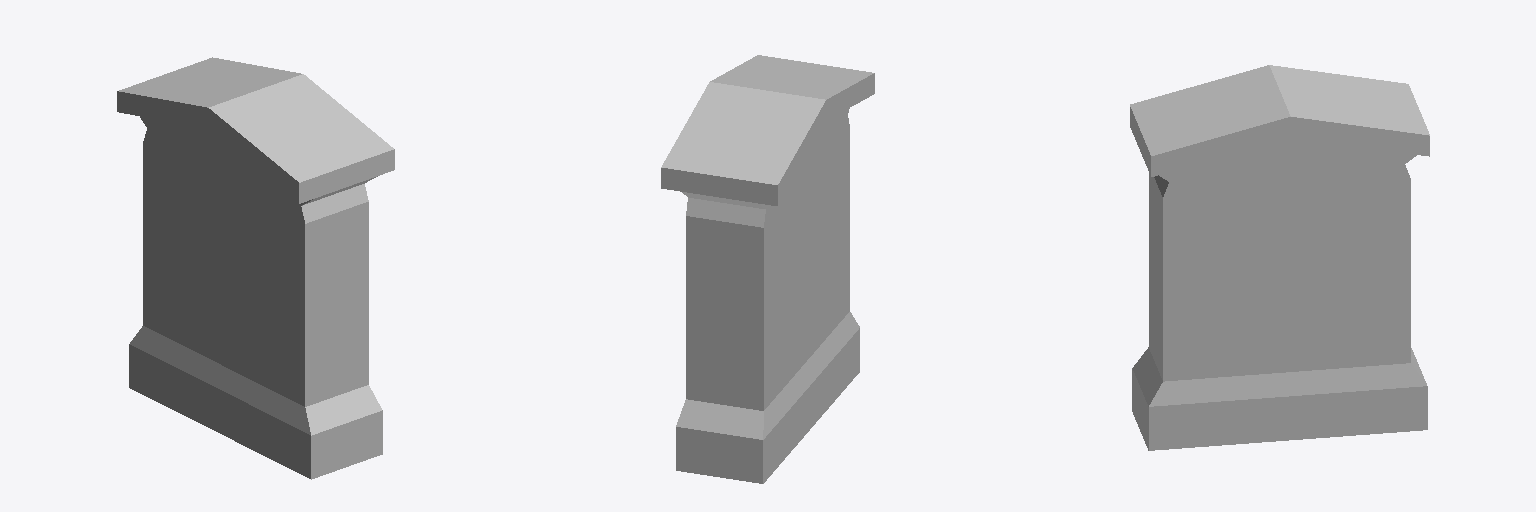
Rendered from Gravestone_Roof_5.obj.
3 views of the same model, side by side, from view 1: azimuth 30°, elevation 25°; view 2: azimuth 150°, elevation 25°; view 3: azimuth 270°, elevation 25° (orthographic).
Visible parts, largest first — view 1: Gravestone_Roof_5; view 2: Gravestone_Roof_5; view 3: Gravestone_Roof_5.
Boxes of the visible parts, <box> form: Gravestone_Roof_5: <box>117,57,394,479</box>; Gravestone_Roof_5: <box>661,55,874,483</box>; Gravestone_Roof_5: <box>1130,65,1429,450</box>.
Size of the model in its own units: 0.3309 by 0.7028 by 0.5795.